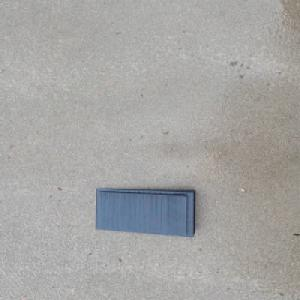PlasticPart: (94, 187, 197, 237)
